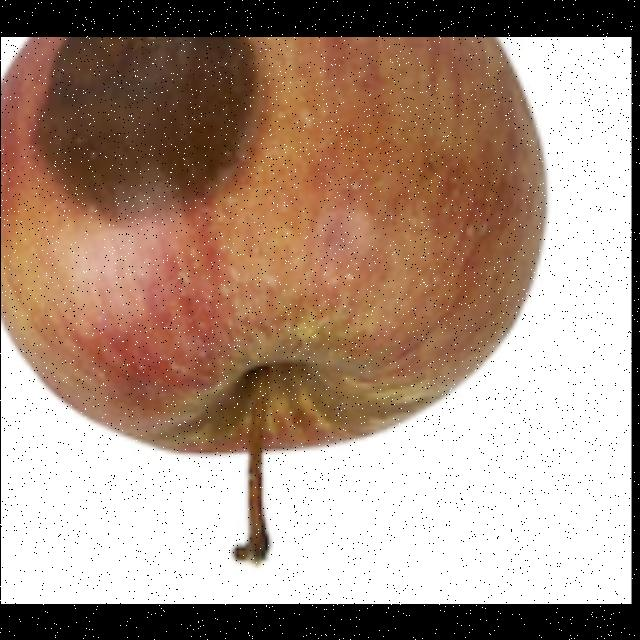Apel Tidak Segar: (1, 37, 602, 563)
